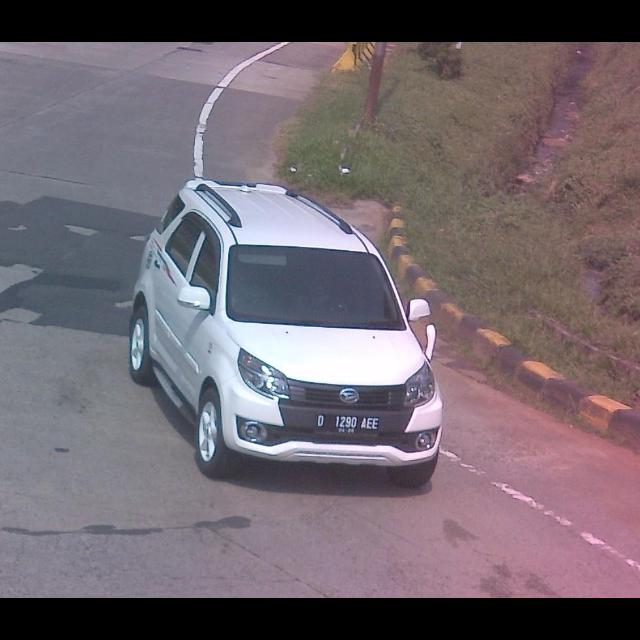plate: (312, 409, 382, 438)
